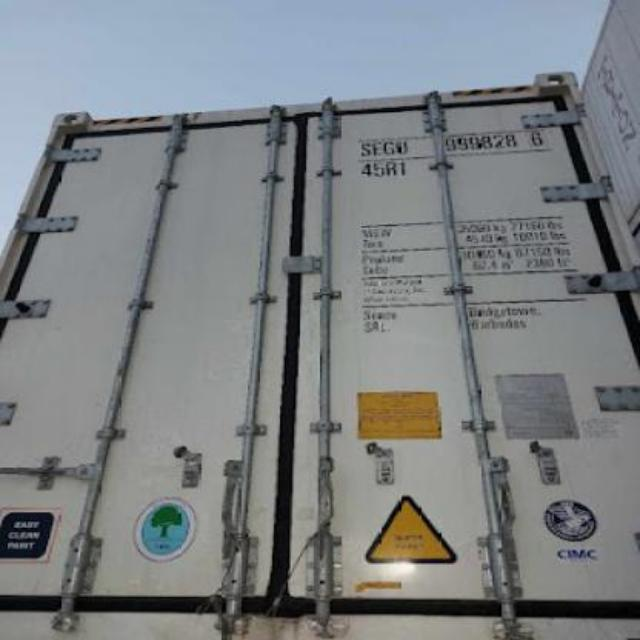2: (492, 134, 504, 148)
6: (528, 132, 544, 144)
8: (506, 134, 516, 148), (482, 136, 492, 148)
9: (446, 138, 458, 150), (470, 136, 480, 150), (458, 138, 468, 150)
E: (372, 141, 382, 157)
G: (384, 140, 394, 156)
S: (360, 142, 372, 156)
U: (396, 140, 408, 154)
